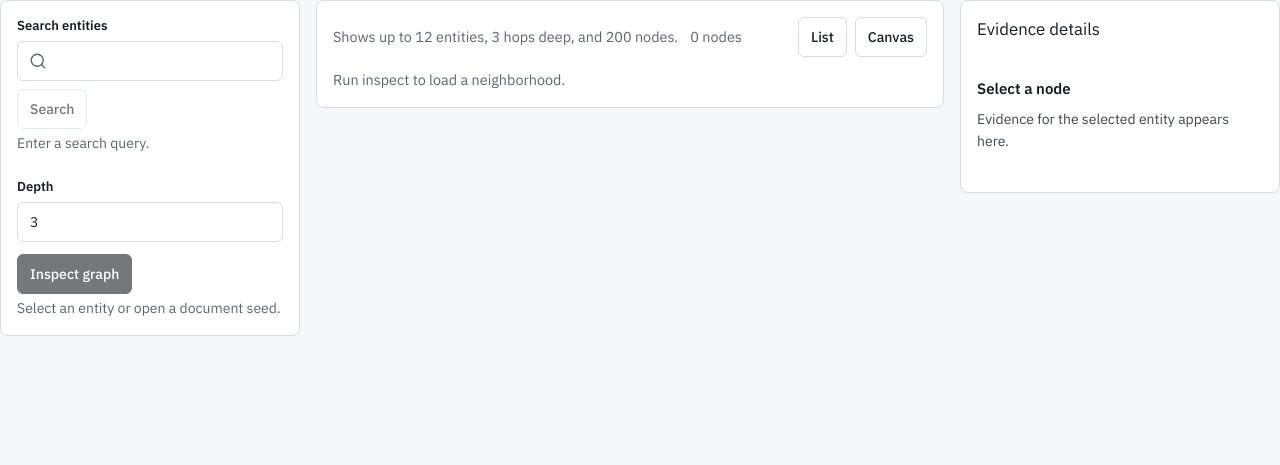
Test: GraphExplorer › preserves chips on inspect 403
Type "acme" into the field labelled "Search entities" at (150, 61), box [17, 41, 283, 81]
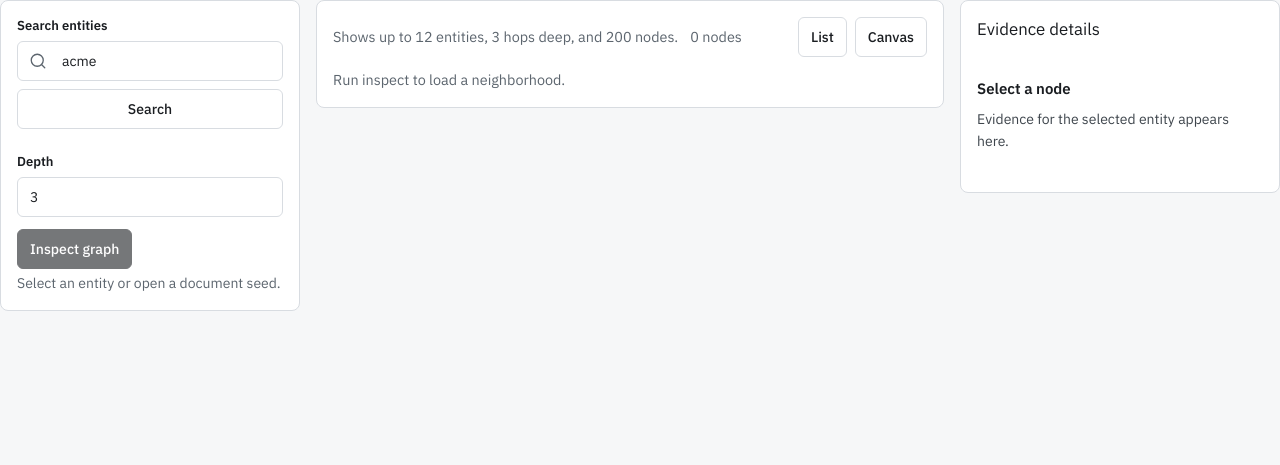
Click the button "Search" at (150, 109), box [17, 89, 283, 129]
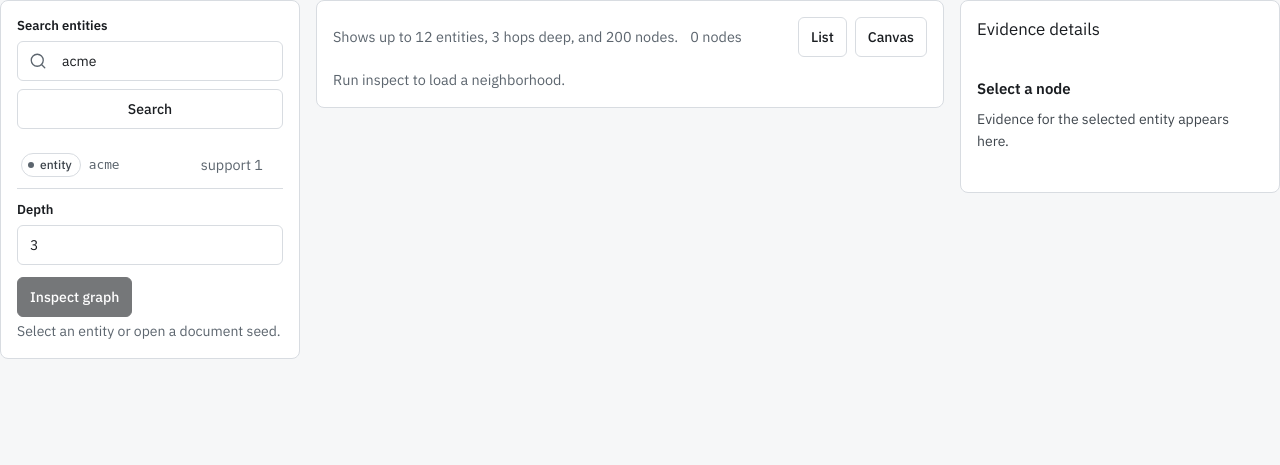
Click the button "entity acme support 1" at (51, 164), box [17, 141, 283, 189]
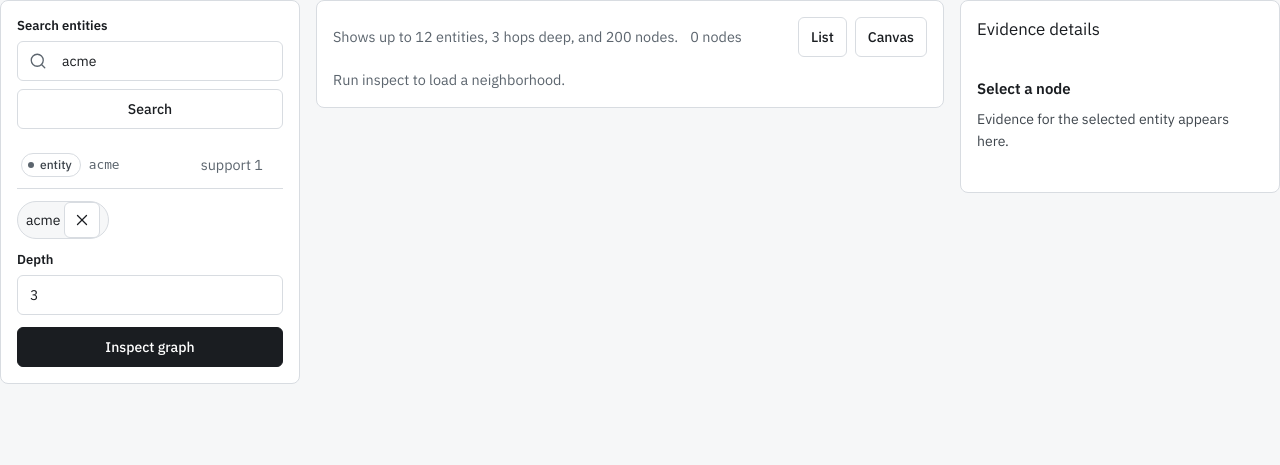
Click the button "Inspect graph" at (150, 347), box [17, 327, 283, 367]
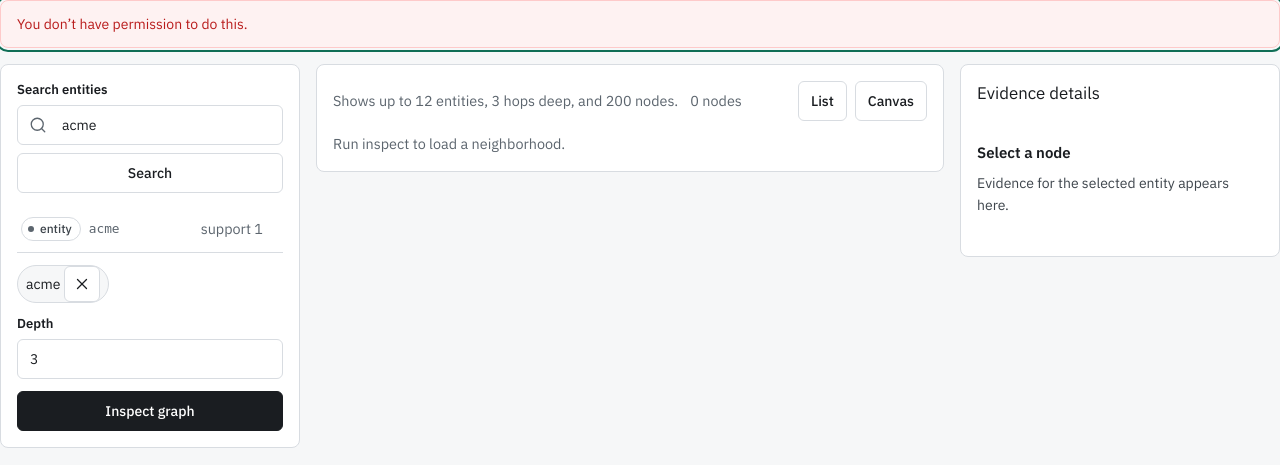
Now the list named "Selected entities" reads "acme", box [26, 274, 60, 292]
Now the text "You don’t have permission to do this." is shown, box [0, 0, 1279, 48]
